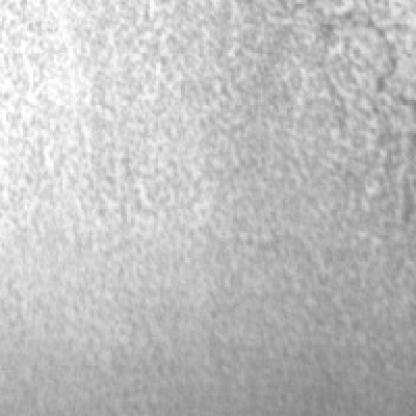pitted_surface: (44, 0, 412, 291)
